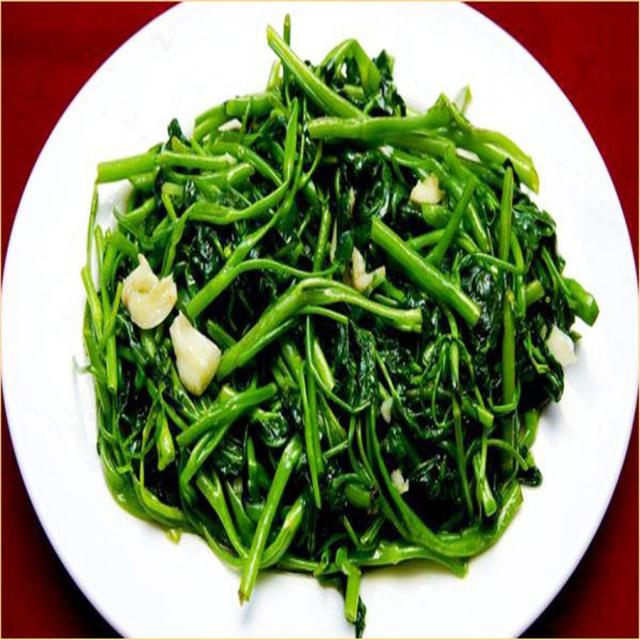rau muong: (81, 16, 599, 636)
